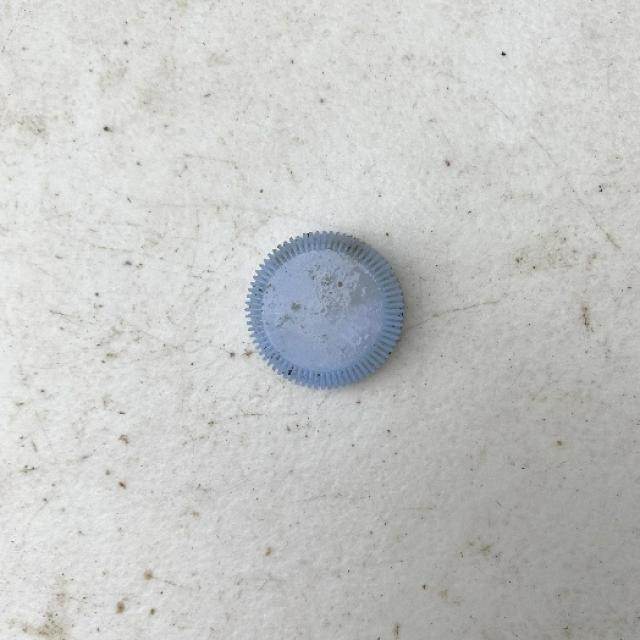inorganic: (242, 227, 413, 396)
